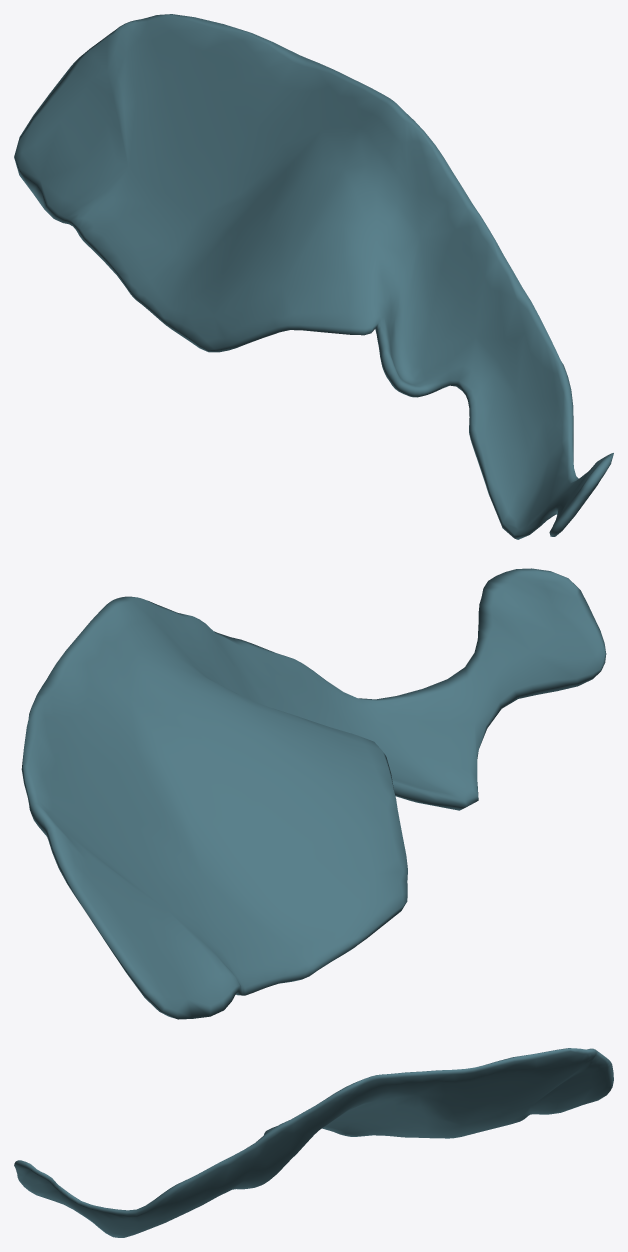
File: Sternocleidomastoid_mastoid_process_left.glb
3 views of the same model, one above another, from view 1: azimuth 30°, elevation 25°; view 2: azimuth 150°, elevation 25°; view 3: azimuth 270°, elevation 25° (orthographic). The views are drawn at different scales.
Visible parts, largest first — view 1: Sternocleidomastoid_muscle_on_mastoid_process.l_Generated_Me; view 2: Sternocleidomastoid_muscle_on_mastoid_process.l_Generated_Me; view 3: Sternocleidomastoid_muscle_on_mastoid_process.l_Generated_Me.
Part boxes in pixels (x1,y1,x2,y2): Sternocleidomastoid_muscle_on_mastoid_process.l_Generated_Me: (14, 14, 613, 539); Sternocleidomastoid_muscle_on_mastoid_process.l_Generated_Me: (21, 568, 606, 1019); Sternocleidomastoid_muscle_on_mastoid_process.l_Generated_Me: (14, 1048, 613, 1237).
Size of the model in its own units: 0.0113 by 0.0131 by 0.0376.
